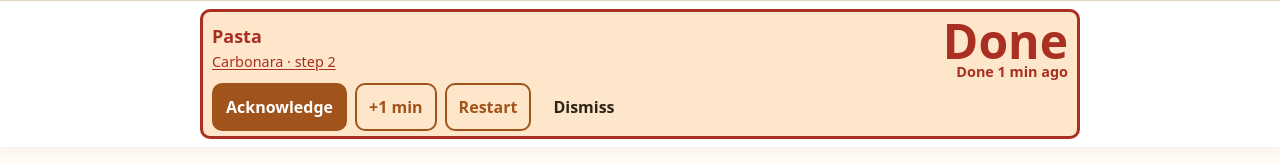
Scenario: TimersProvider + TimerDock › snoozing a finished timer silences it and restarts the count
Click the button "+1 min".
click(396, 107)  # box [355, 83, 437, 131]
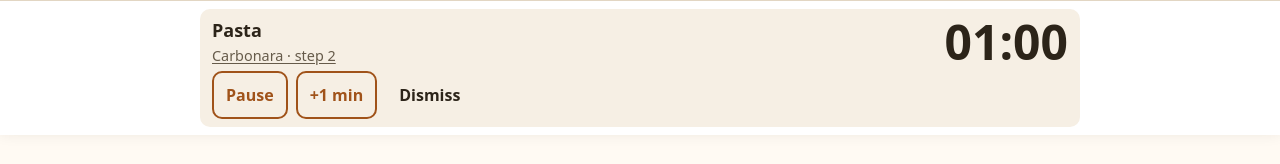
Expected: the text "01:00" is shown, [944, 9, 1068, 74]
